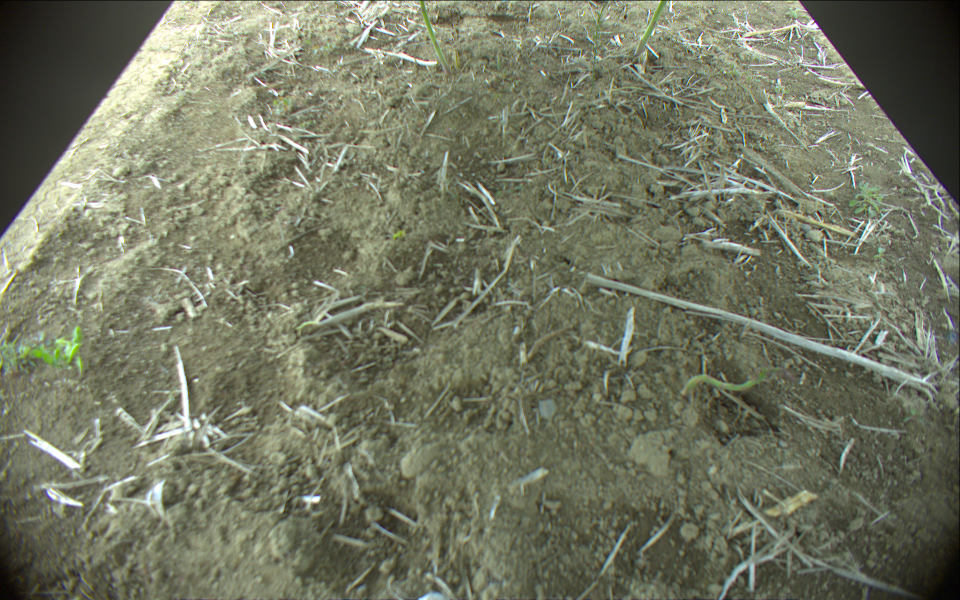aspa: (417, 1, 452, 74), (636, 1, 665, 56)
